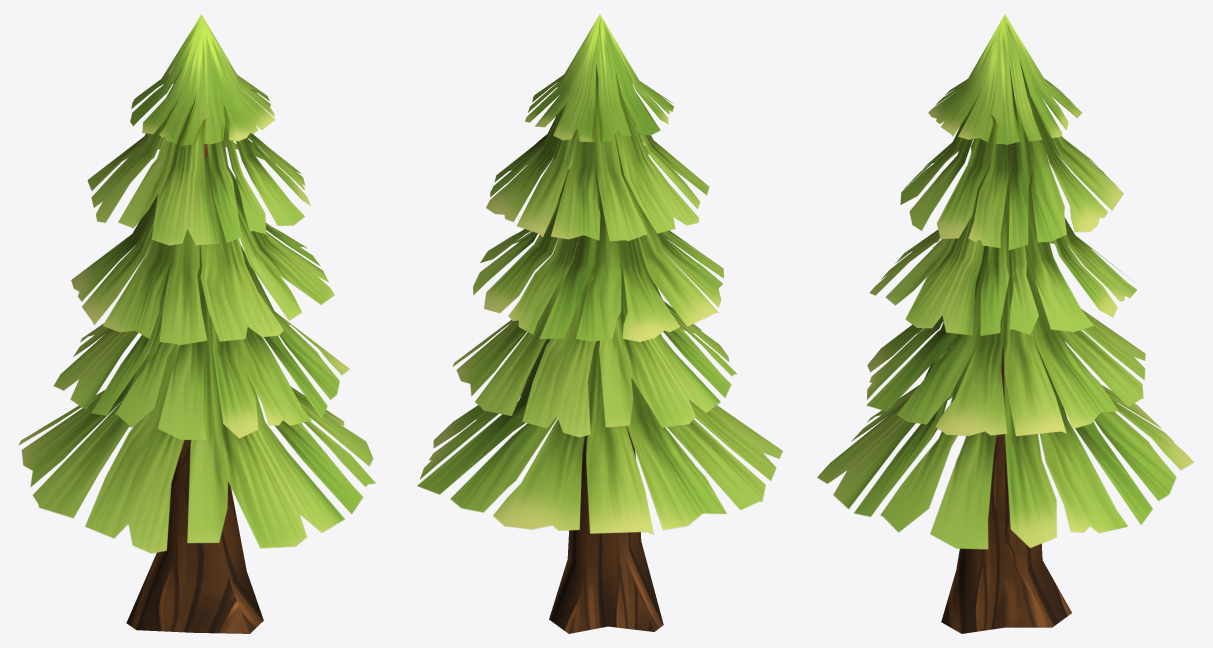
Rendered from handpainted_pine_tree.glb.
3 renders of one model, left to right at view 1: azimuth 30°, elevation 25°; view 2: azimuth 150°, elevation 25°; view 3: azimuth 270°, elevation 25°, orthographic.
Visible parts, largest first — view 1: PineTree_001_PineTree_001_0.001; view 2: PineTree_001_PineTree_001_0.001; view 3: PineTree_001_PineTree_001_0.001.
Part boxes in pixels (<box>): PineTree_001_PineTree_001_0.001: <box>18,14,375,633</box>; PineTree_001_PineTree_001_0.001: <box>417,14,782,633</box>; PineTree_001_PineTree_001_0.001: <box>817,14,1193,633</box>.
Size of the model in its own units: 3.36 by 5.77 by 3.36.
Materials: 1 (1 with a texture image).
